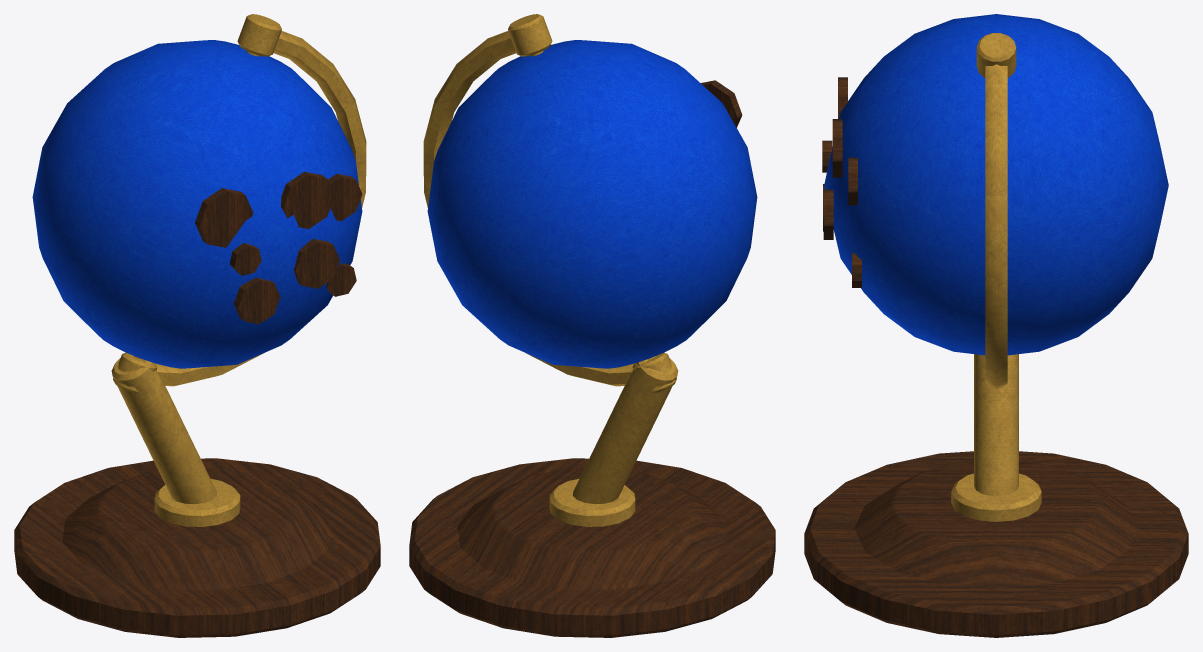
The model's file is studio-guide-globe.glb.
3 views of the same model, side by side, from view 1: azimuth 30°, elevation 25°; view 2: azimuth 150°, elevation 25°; view 3: azimuth 270°, elevation 25° (orthographic). The views are drawn at different scales.
Visible parts, largest first — view 1: globe_sphere, weighted_base, base_shoulders, tilted_support_column, c_meridian_ring, brass_socket, land_north_america, land_eurasia_west, land_africa, land_south_america, upper_axis_bearing, land_eurasia_east (+3 smaller); view 2: globe_sphere, weighted_base, base_shoulders, tilted_support_column, c_meridian_ring, brass_socket, upper_axis_bearing, land_north_america, lower_axis_bearing; view 3: globe_sphere, weighted_base, base_shoulders, c_meridian_ring, tilted_support_column, brass_socket, upper_axis_bearing, land_eurasia_west, land_africa.
Boxes of the visible parts, x1,y1,x2,y2 form: globe_sphere: (32,40,362,368); weighted_base: (14,458,380,637); base_shoulders: (62,468,332,590); tilted_support_column: (111,358,216,504); c_meridian_ring: (156,31,366,386); brass_socket: (154,479,240,526); land_north_america: (195,188,253,247); land_eurasia_west: (281,171,334,228); land_africa: (293,239,339,288); land_south_america: (233,277,280,324); upper_axis_bearing: (237,14,281,56); land_eurasia_east: (328,173,362,221); globe_sphere: (427,40,757,368); weighted_base: (409,458,775,637); base_shoulders: (457,468,727,590); tilted_support_column: (573,358,678,504); c_meridian_ring: (423,31,633,386); brass_socket: (549,479,635,526); upper_axis_bearing: (508,14,552,56); land_north_america: (701,80,742,127); lower_axis_bearing: (632,352,676,392); globe_sphere: (824,14,1168,355); weighted_base: (804,451,1188,637); base_shoulders: (854,461,1138,588); c_meridian_ring: (985,64,1007,389); tilted_support_column: (974,354,1018,495); brass_socket: (951,473,1041,521); upper_axis_bearing: (976,33,1016,77); land_eurasia_west: (832,119,842,177); land_africa: (823,189,833,239).
Bounding box in the file's own units: 0.14 × 0.2164 × 0.136.
Materials: 3 (3 with a texture image).
